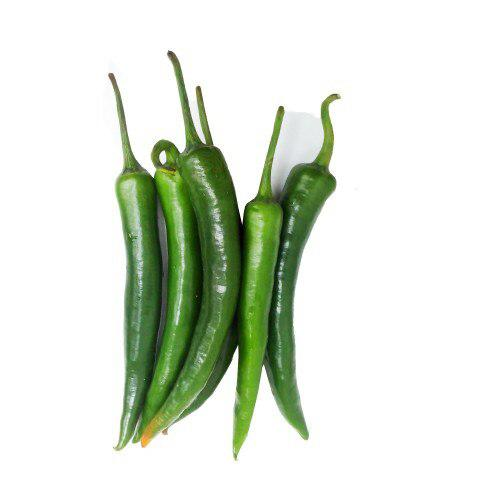lada hijau: (262, 149, 363, 447), (155, 124, 243, 462), (90, 139, 162, 459), (218, 183, 295, 481), (137, 141, 203, 442)
